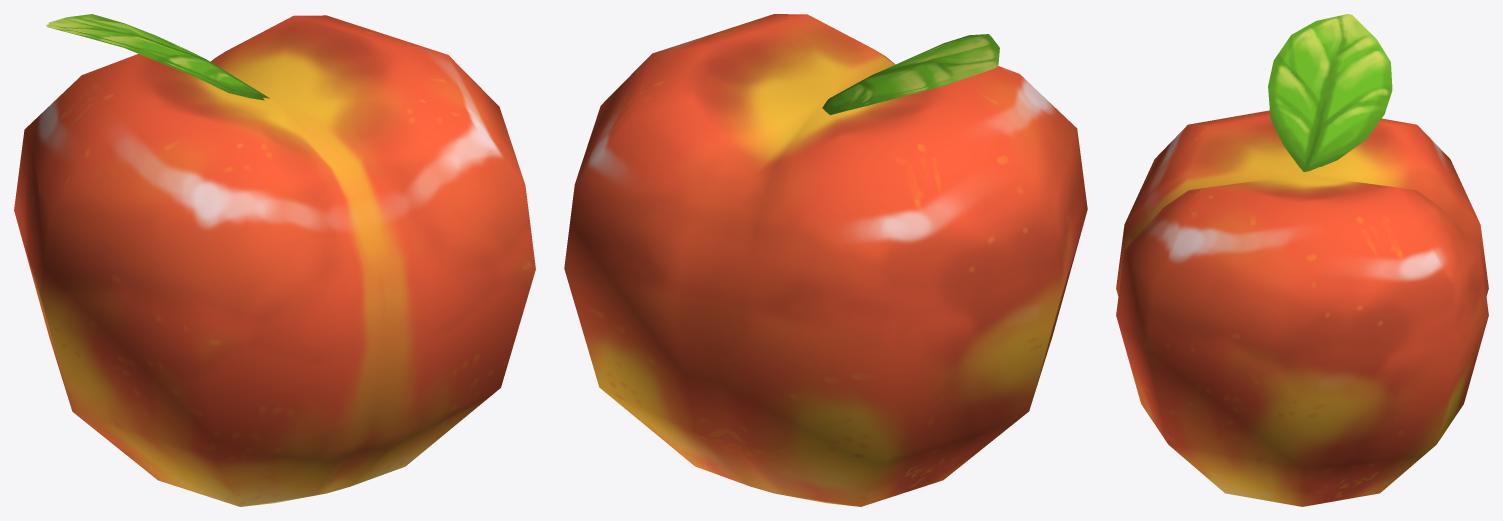
The model's file is peach.fbx.
3 renders of one model, left to right at view 1: azimuth 30°, elevation 25°; view 2: azimuth 150°, elevation 25°; view 3: azimuth 270°, elevation 25°, orthographic. The views are drawn at different scales.
Parts seen in each view (by area): view 1: peach; view 2: peach; view 3: peach.
Part boxes in pixels (left/top/right/bottom): peach: left=14, top=14, right=535, bottom=506; peach: left=564, top=14, right=1087, bottom=506; peach: left=1116, top=14, right=1488, bottom=506.
Size of the model in its own units: 1.87 by 1.93 by 1.59.
